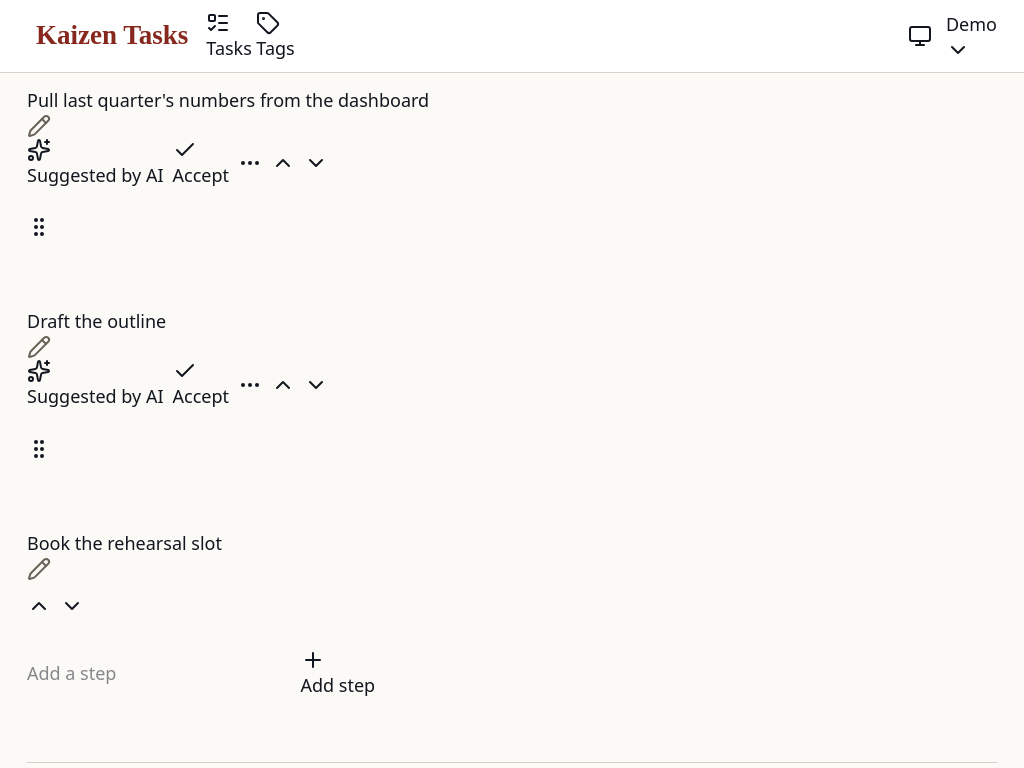
Scenario: step reorder and add step › rolls back and shows a toast when the reorder fails
(page scrolled)
Click the button named "Move Draft the outline up": (283, 385) [271,360,295,410]
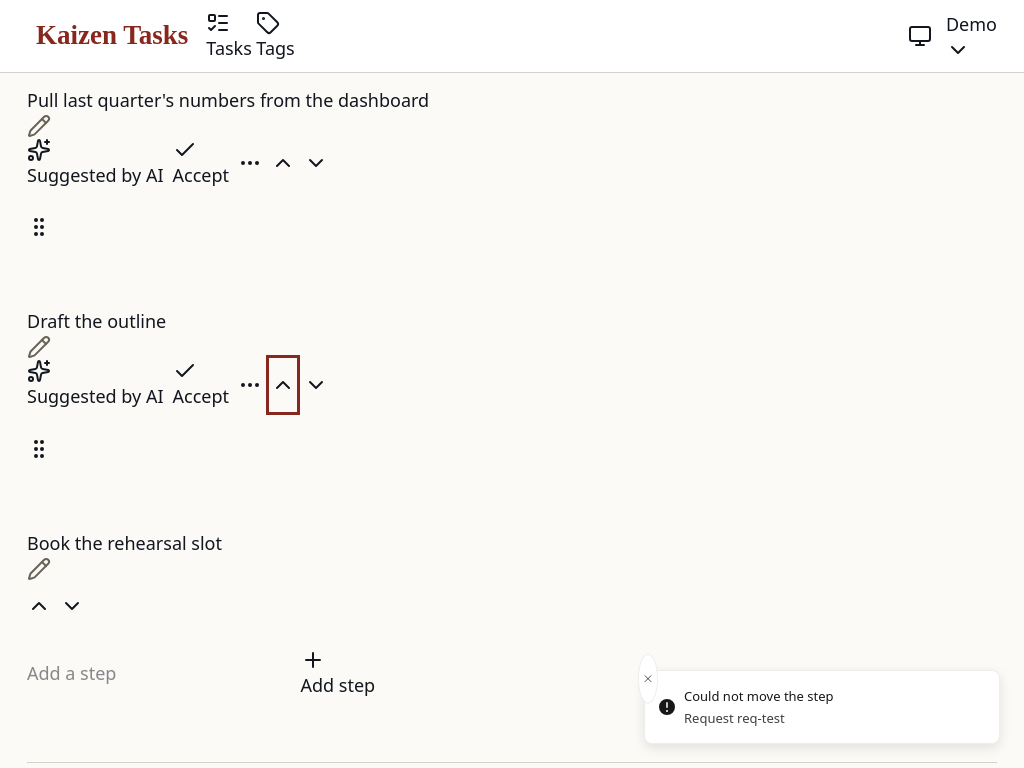
Result: the text "Could not move the step" is shown at [684,687,834,707]
